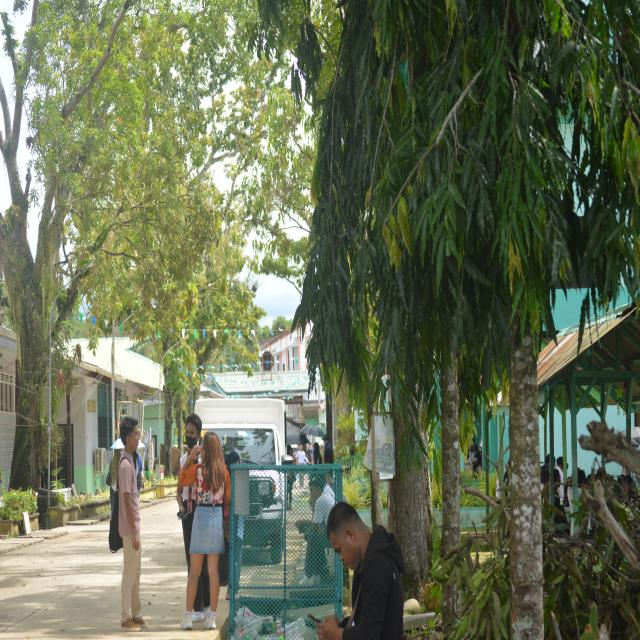person: (316, 502, 404, 639), (180, 432, 230, 629), (118, 417, 147, 631), (296, 474, 335, 586), (177, 480, 197, 575), (323, 434, 333, 464), (313, 443, 322, 464)
